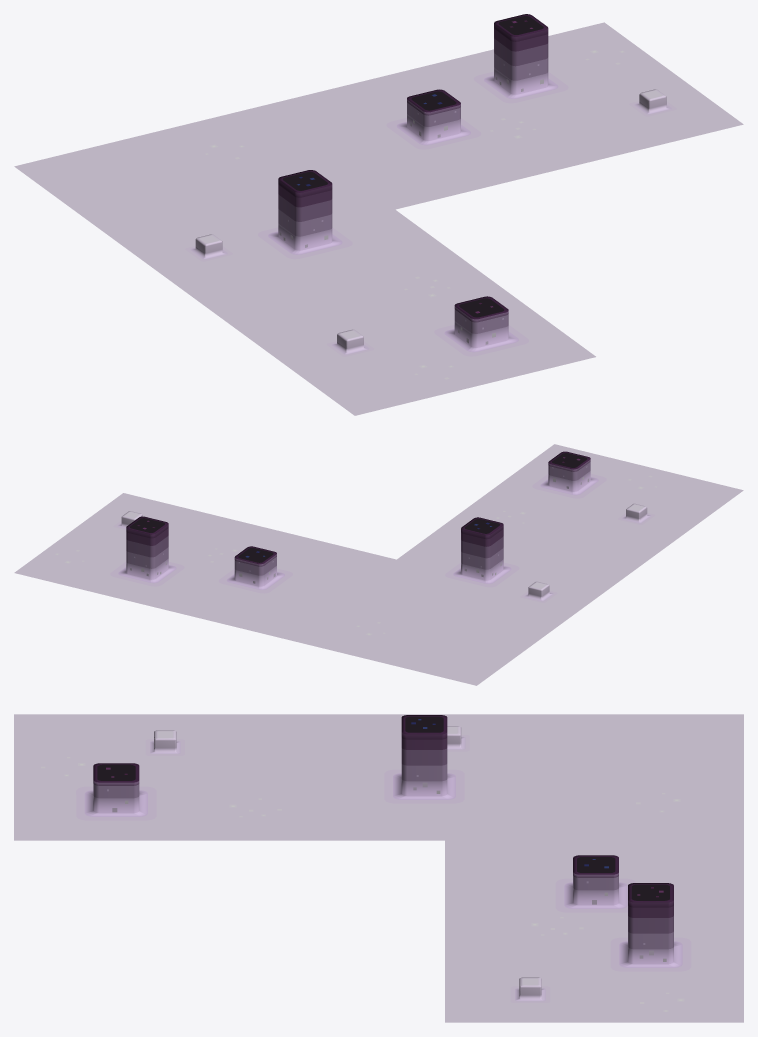
The model's file is C_special1_out_RD.fbx.
The picture shows the model from 3 angles, top to bottom: view 1: azimuth 30°, elevation 25°; view 2: azimuth 150°, elevation 25°; view 3: azimuth 270°, elevation 25°; orthographic projection. The views are drawn at different scales.
Parts seen in each view (by area): view 1: C_special1_out_RD; view 2: C_special1_out_RD; view 3: C_special1_out_RD.
Part boxes in pixels (box(x1,y1,x2,y2)): C_special1_out_RD: box(14, 14, 743, 415); C_special1_out_RD: box(14, 444, 743, 685); C_special1_out_RD: box(14, 714, 743, 1022).
Bounding box in the file's own units: 127 × 12.34 × 127.
